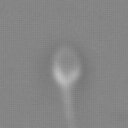normal: (61, 87, 80, 128)
